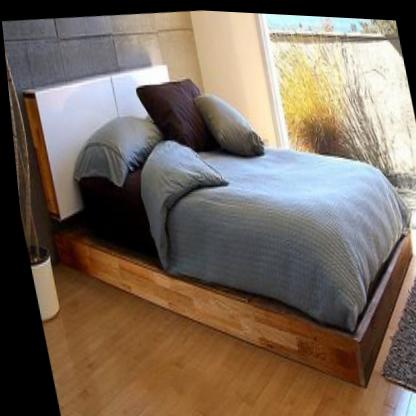Bed: (13, 34, 416, 413)
Carpet: (35, 262, 396, 416)
